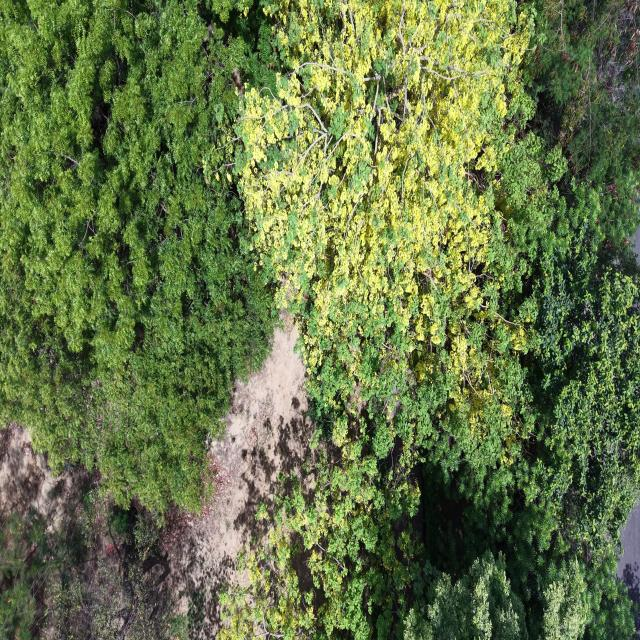DRY_AREA: (162, 316, 311, 638), (165, 317, 311, 638), (169, 323, 311, 638), (171, 321, 311, 638), (0, 423, 95, 593), (0, 424, 90, 531), (0, 424, 64, 519), (617, 503, 639, 606), (617, 504, 639, 605), (630, 227, 639, 261)
VEGETATION_TREE: (0, 0, 639, 639), (228, 2, 639, 638), (235, 2, 534, 637), (0, 0, 275, 511), (0, 487, 187, 639), (527, 0, 639, 242), (47, 488, 187, 639), (404, 553, 525, 639), (0, 513, 50, 639)
